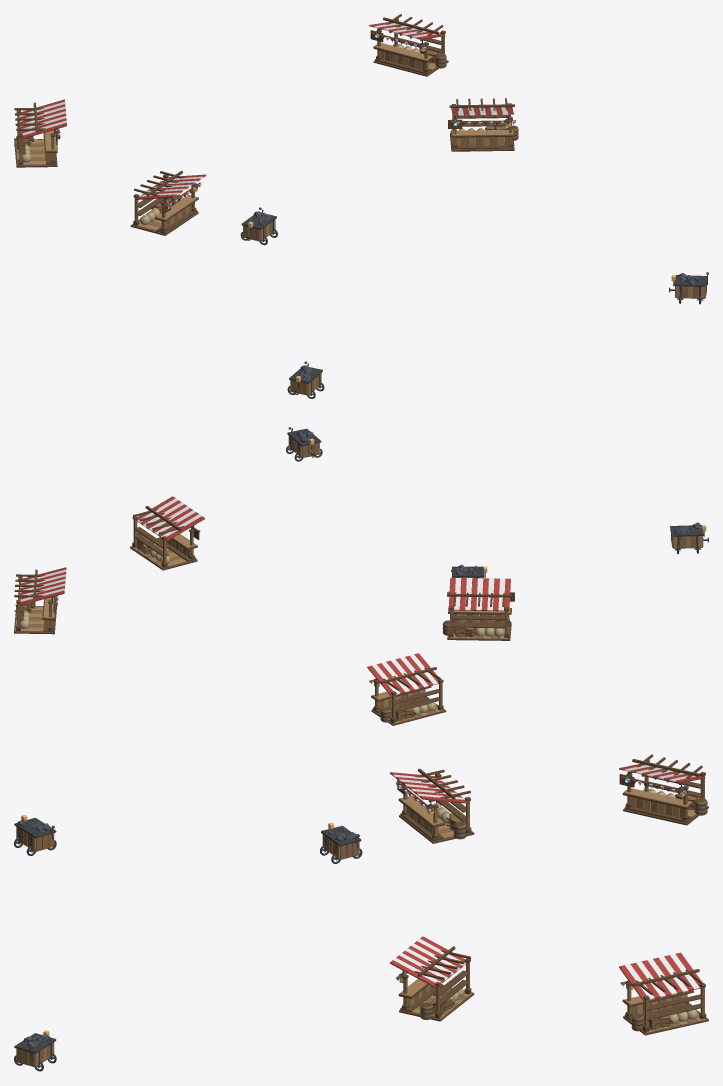
Rendered from 14_Mercado.fbx.
3 views of the same model, one above another, from view 1: azimuth 30°, elevation 25°; view 2: azimuth 150°, elevation 25°; view 3: azimuth 270°, elevation 25° (orthographic). The views are drawn at different scales.
Size of the model in its own units: 8982 by 1550 by 10909.
